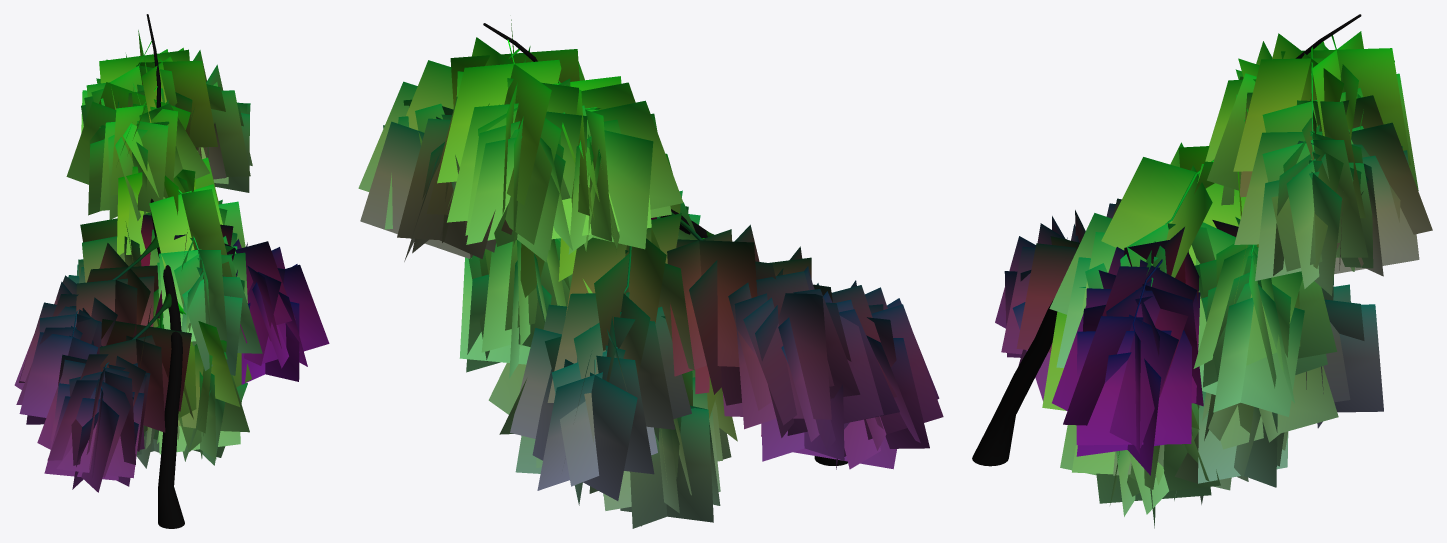
File: URP_P13_Tree_3_LOD_1.fbx
The picture shows the model from 3 angles, left to right: view 1: azimuth 30°, elevation 25°; view 2: azimuth 150°, elevation 25°; view 3: azimuth 270°, elevation 25°; orthographic projection. The views are drawn at different scales.
Parts seen in each view (by area): view 1: Tree_3_LOD_1; view 2: Tree_3_LOD_1; view 3: Tree_3_LOD_1.
Part boxes in pixels (x1,y1,x2,y2): Tree_3_LOD_1: (14, 14, 329, 528); Tree_3_LOD_1: (358, 19, 943, 528); Tree_3_LOD_1: (972, 14, 1432, 528).
Bounding box in the file's own units: 431 × 522 × 421.
